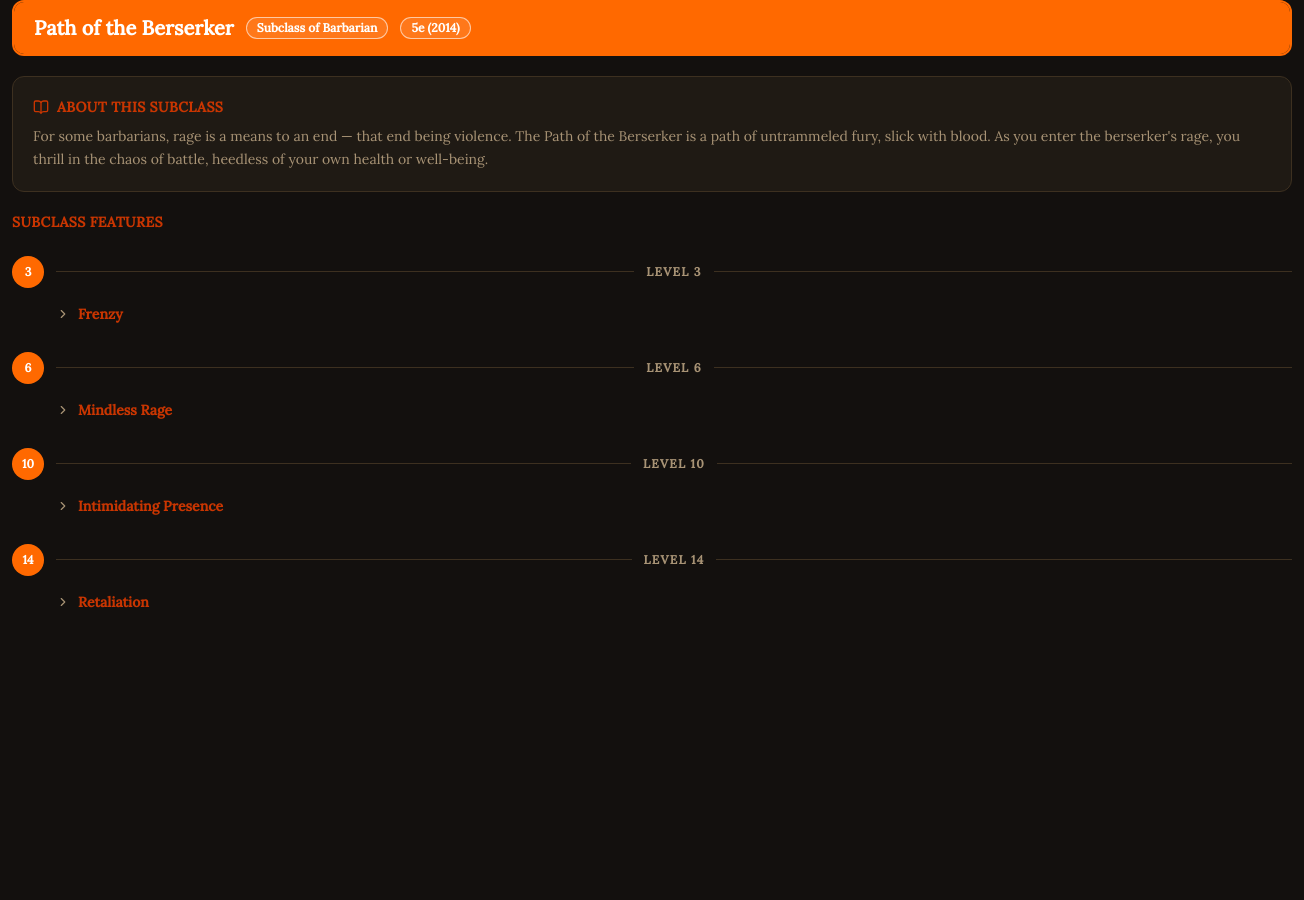
Test: SubclassOverview › collapses feature description when clicked a second time
This screenshot has width=1304, height=900.
Click the button with test id "feature-toggle-Frenzy" at (100, 314), box x1=56 y1=300 x2=1292 y2=328
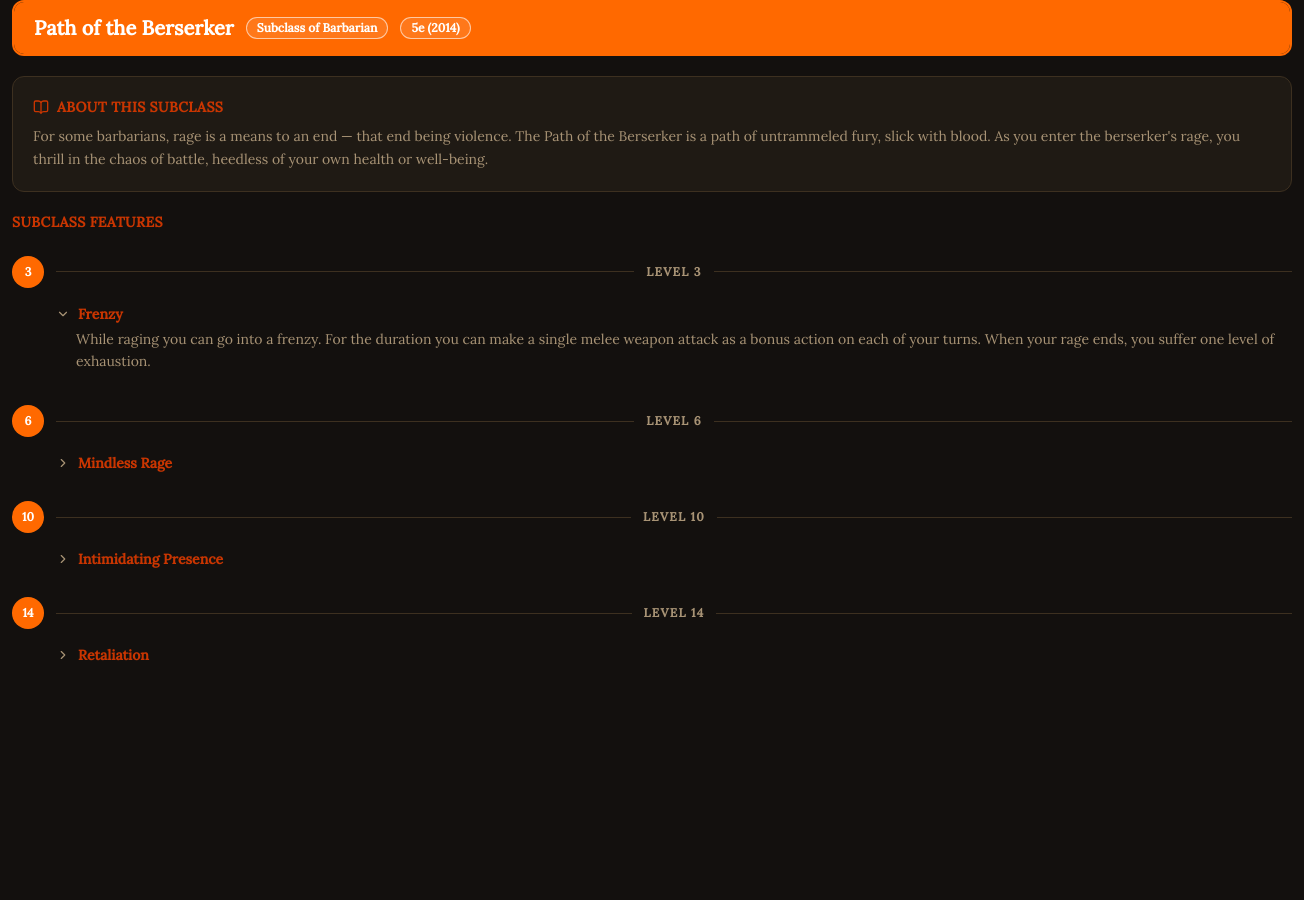
Expected: the text "go into a frenzy" is shown, x1=76 y1=330 x2=1274 y2=370
Click the button with test id "feature-toggle-Frenzy" at (100, 314), box x1=56 y1=300 x2=1292 y2=328
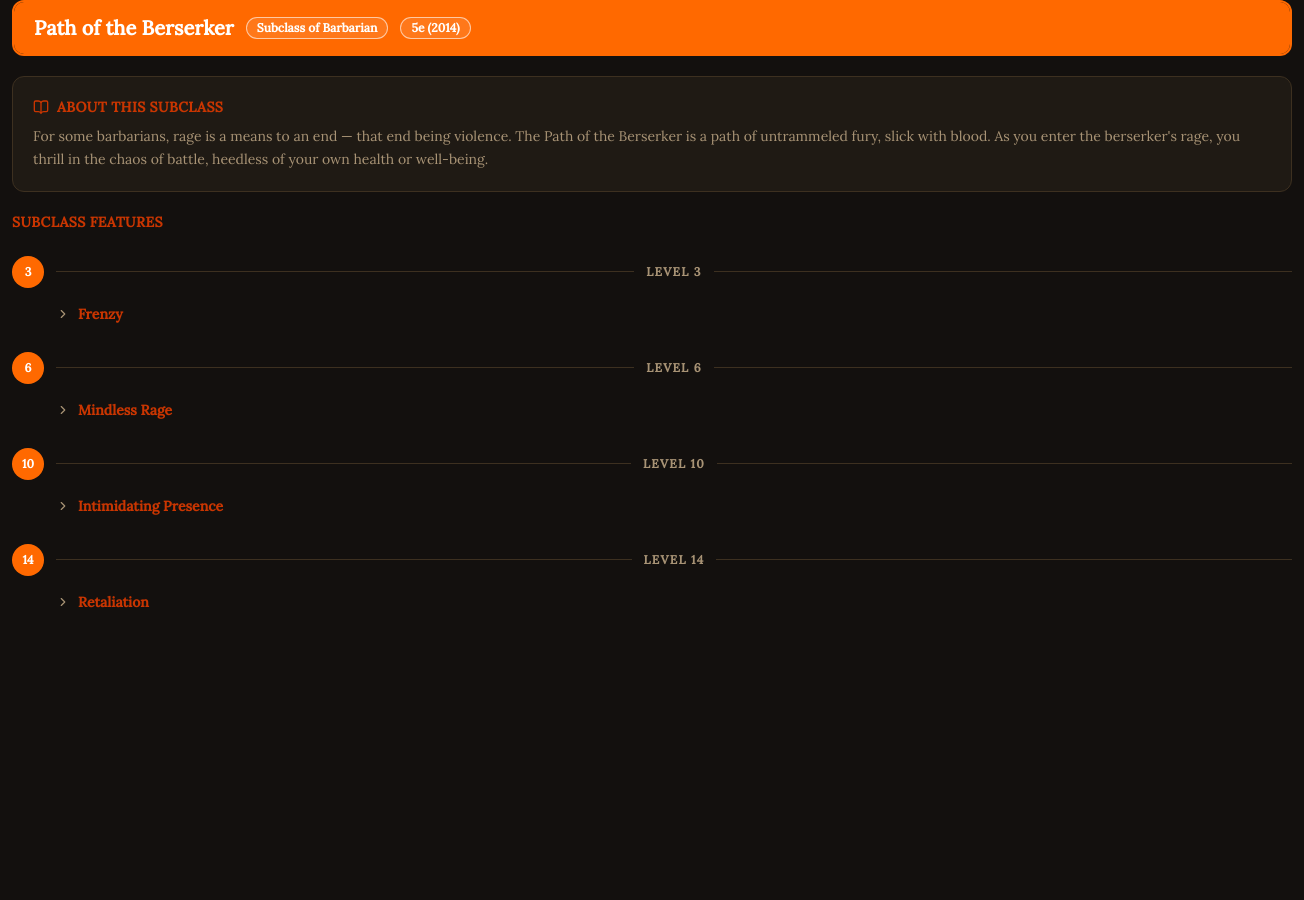
Expected: the text "go into a frenzy" is gone
